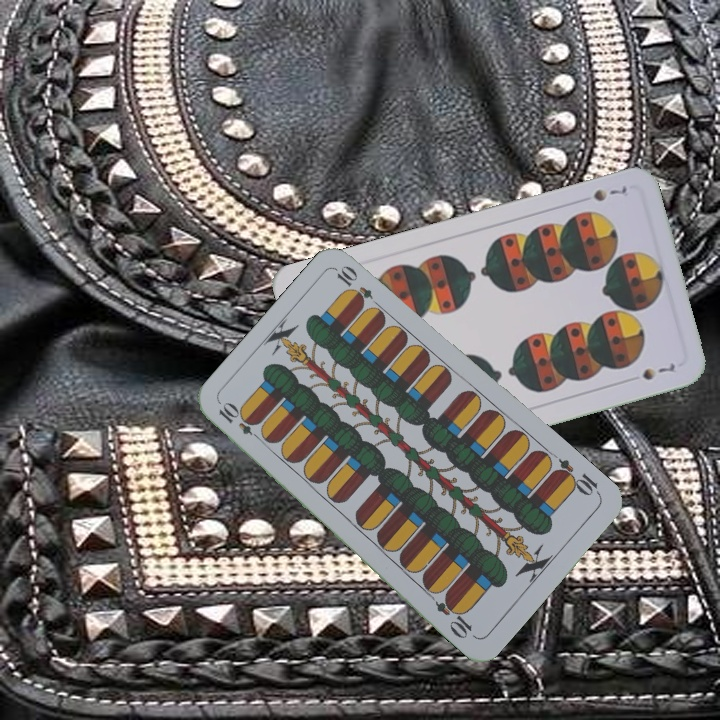E10: (214, 399, 266, 445), (549, 455, 603, 499)
S7: (589, 181, 631, 204)
